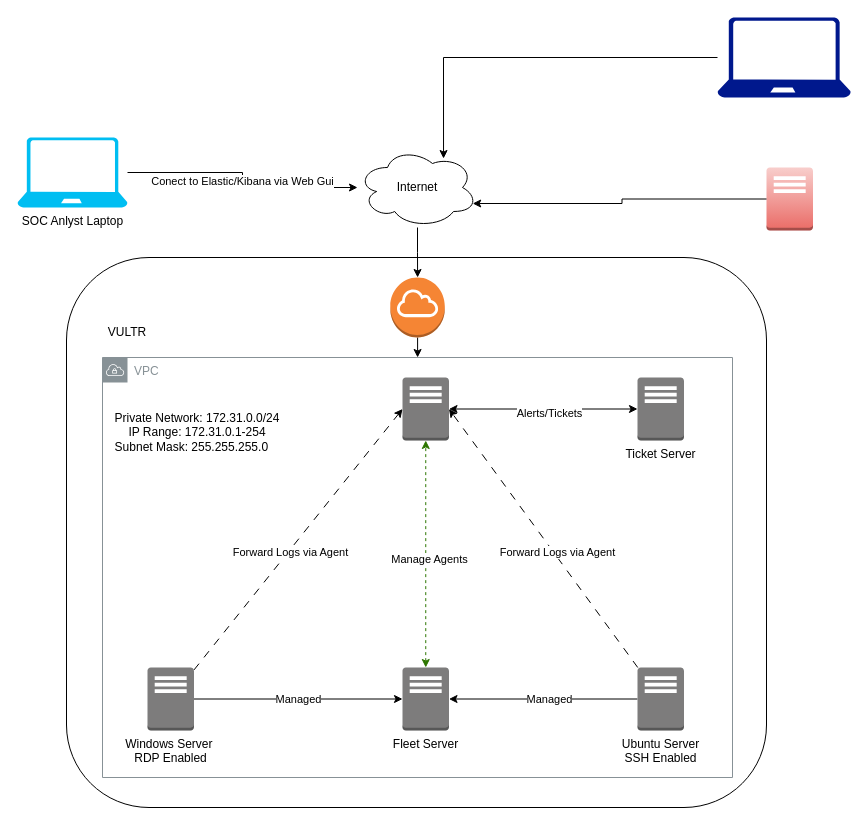
Image size: 868x825. Some labels were removed from this diagram. Each missing label, with the centre of its shape:
"Attack Laptop Kali Linux" goes at (783,57).
"C2 Server Mythic" goes at (789,198).
"Elastic and Kibana" goes at (425,408).
